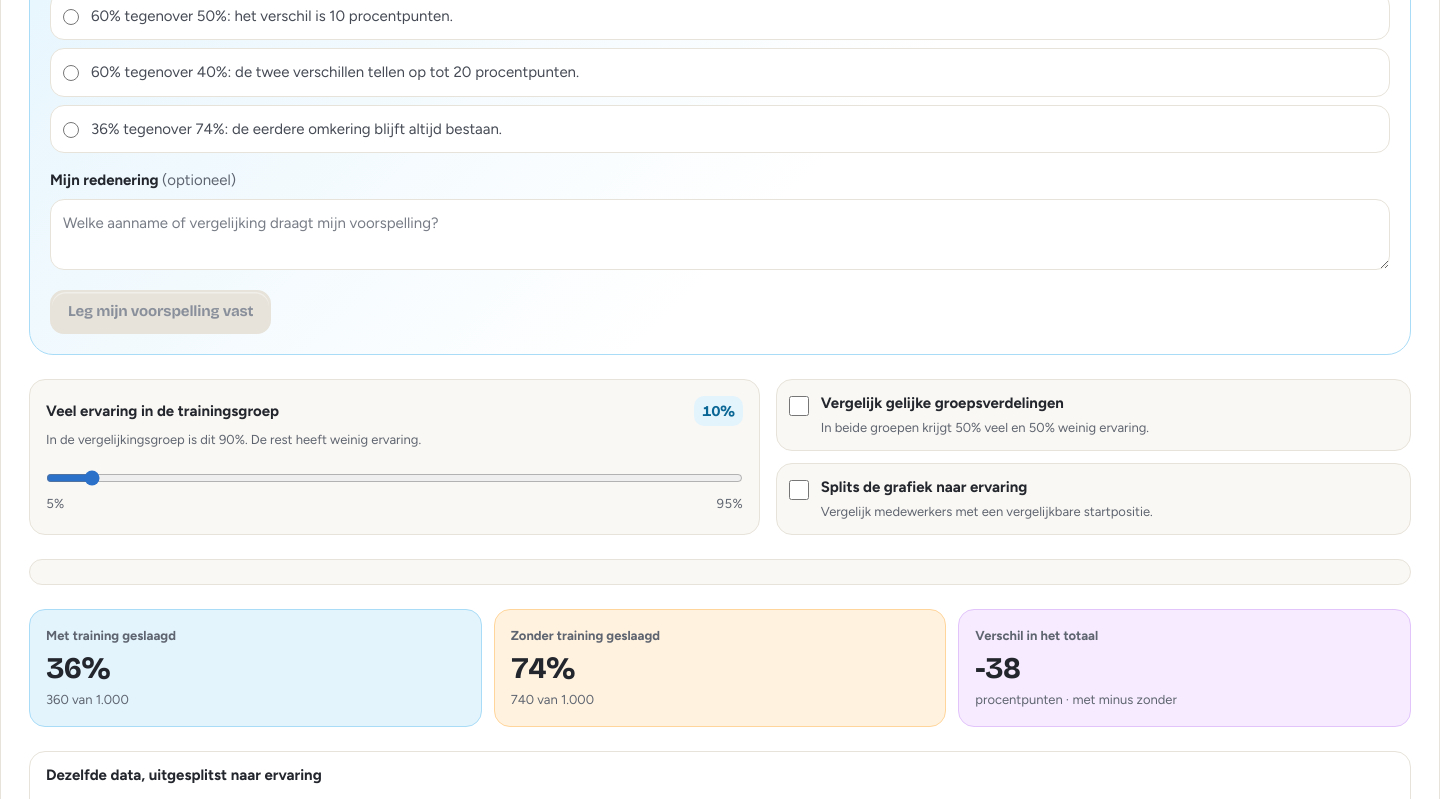
Test case: accessible argument laboratories without a canvas › shows frequencies and conditional rates even when the graph is unavailable
(page scrolled)
Check: the text "36%" is shown, box [46, 650, 110, 686]
Check: the text "74%" is shown, box [511, 650, 575, 686]
Click the checkbox labelled "Vergelijk gelijke groepsverdelingen". click: x=799, y=406
box: [789, 396, 809, 416]
(page scrolled)
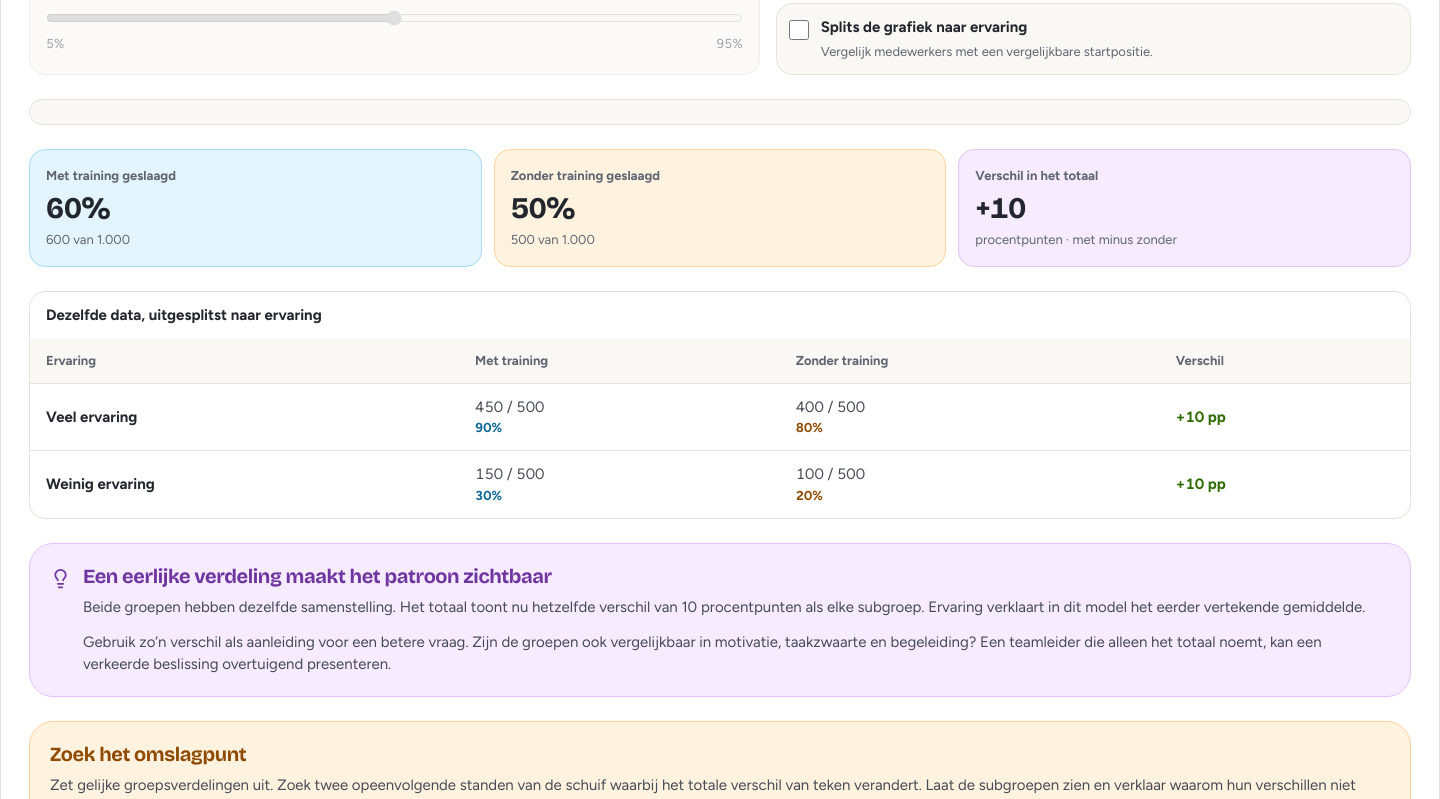
Check: the table "Dezelfde data, uitgesplitst naar ervaring" is shown, box [30, 292, 1410, 518]
Check: the slider labelled "Veel ervaring in de trainingsgroep" is disabled, box [46, 2, 743, 34]
Check: the text "60%" is shown, box [46, 190, 110, 226]
